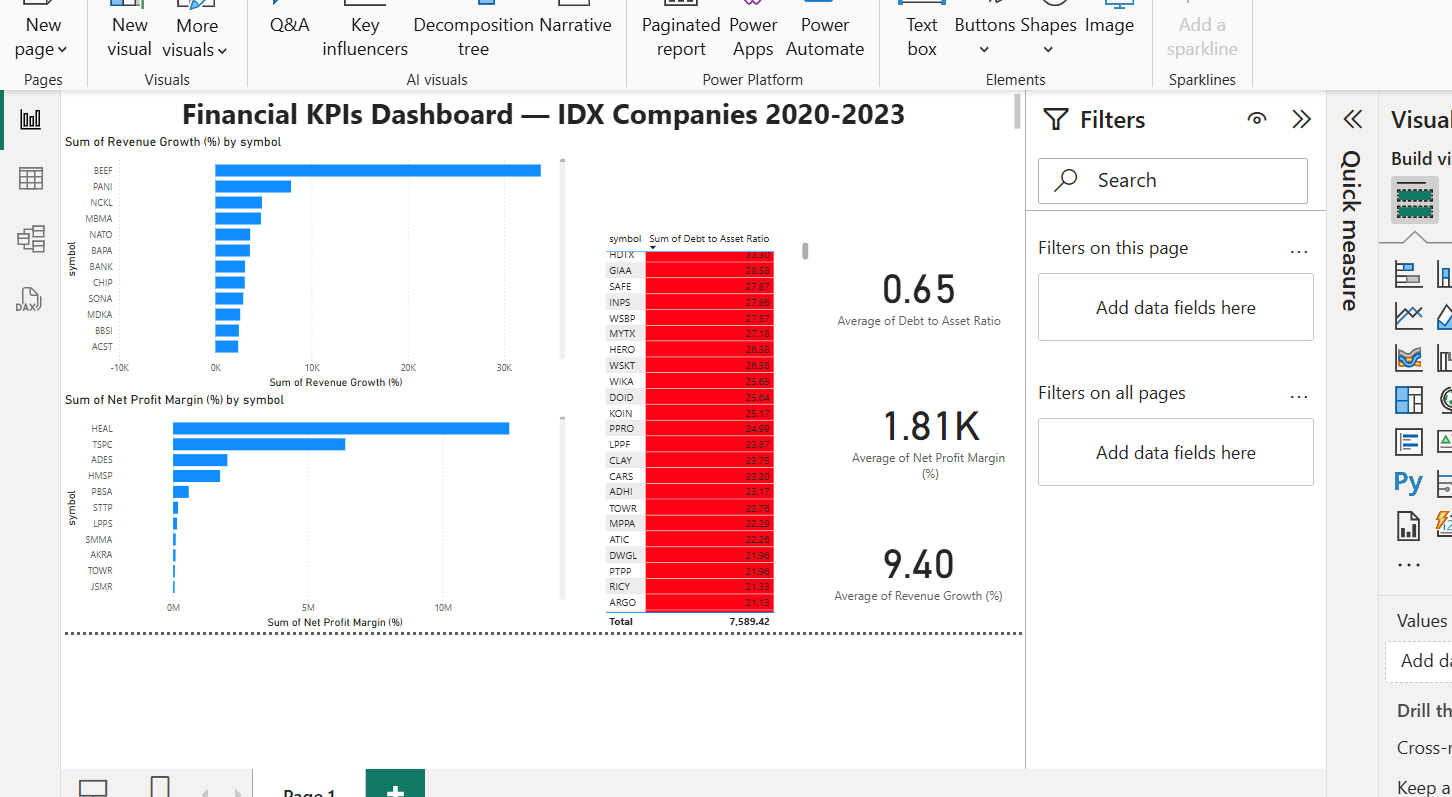

The dashboard page shown, as its layout file describes it:
{"tool":"powerbi","page":{"name":"Page 1","canvas":[1280,720],"ordinal":0},"visuals":[{"type":"clusteredBarChart","fields":{"Category":["final_financial_kpis.symbol"],"Y":["Sum(final_financial_kpis.Revenue Growth (%))"]},"box":[0,57.8,675.2,342.6],"z":0},{"type":"clusteredBarChart","fields":{"Category":["final_financial_kpis.symbol"],"Y":["Sum(final_financial_kpis.Net Profit Margin (%))"]},"box":[0,400.3,675.2,318.7],"z":1},{"type":"tableEx","fields":{"Values":["final_financial_kpis.symbol","Sum(final_financial_kpis.Debt to Asset Ratio)"]},"box":[717,181.2,280.8,537.8],"z":2},{"type":"card","fields":{"Values":["Avg(final_financial_kpis.Net Profit Margin (%))"]},"box":[1029.7,352.5,249,193.2],"z":3},{"type":"card","fields":{"Values":["Avg(final_financial_kpis.Debt to Asset Ratio)"]},"box":[997.9,181.2,282.8,171.3],"z":4},{"type":"card","fields":{"Values":["Avg(final_financial_kpis.Revenue Growth (%))"]},"box":[997.9,545.7,280.8,173.3],"z":5},{"type":"textbox","box":[155.4,0,1123.3,57.8],"z":6}]}

Visuals, with their boxes on the page's 1280x720 design canvas (x1, y1, x2, y2). These are canvas units, not pixel positions in the 1452x797 screenshot, which may show the page scaled, cropped or inside an application window:
clusteredBarChart - final_financial_kpis.symbol x Sum(final_financial_kpis.Revenue Growth (%)): crop(0, 58, 675, 400)
clusteredBarChart - final_financial_kpis.symbol x Sum(final_financial_kpis.Net Profit Margin (%)): crop(0, 400, 675, 719)
tableEx - final_financial_kpis.symbol x Sum(final_financial_kpis.Debt to Asset Ratio): crop(717, 181, 998, 719)
card - Avg(final_financial_kpis.Net Profit Margin (%)): crop(1030, 352, 1279, 546)
card - Avg(final_financial_kpis.Debt to Asset Ratio): crop(998, 181, 1281, 352)
card - Avg(final_financial_kpis.Revenue Growth (%)): crop(998, 546, 1279, 719)
textbox: crop(155, 0, 1279, 58)
